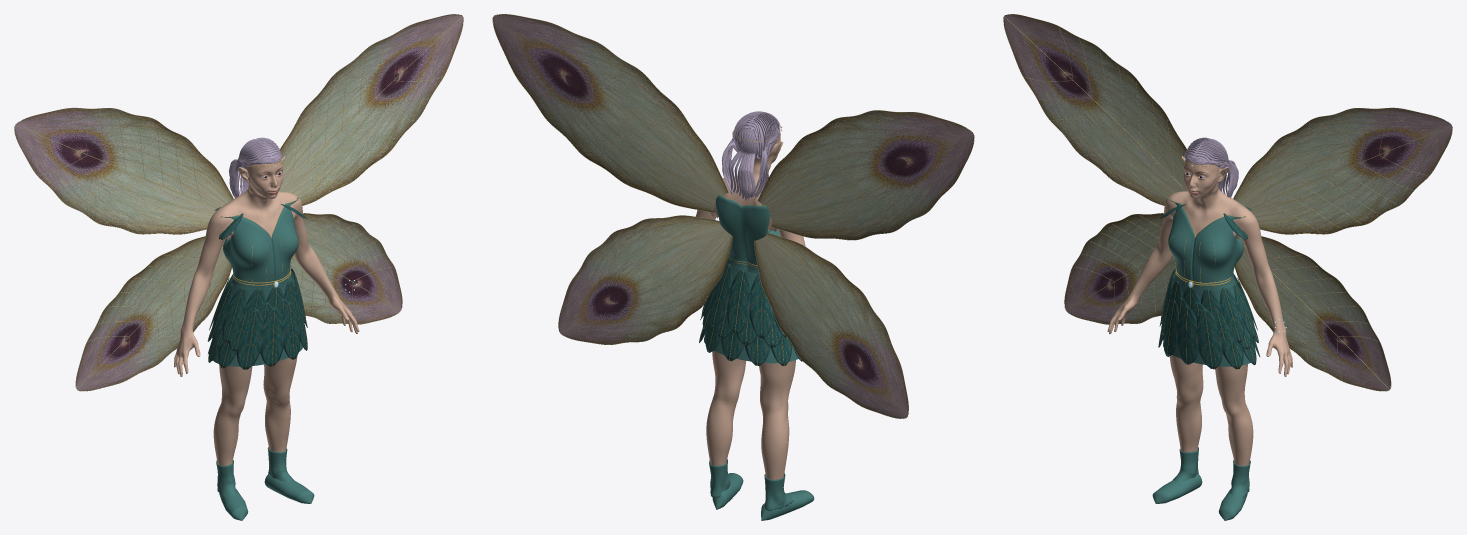
File: dream_wisp_geometry.glb
The picture shows the model from 3 angles, left to right: view 1: azimuth 30°, elevation 25°; view 2: azimuth 150°, elevation 25°; view 3: azimuth 330°, elevation 25°; orthographic projection. The views are drawn at different scales.
Parts seen in each view (by area): view 1: part_192, part_228, part_004, part_210, part_246, part_096, part_095, part_172, part_170, part_150, part_100, part_122 (+2 smaller); view 2: part_228, part_192, part_246, part_210, part_004, part_096, part_095, part_114, part_116, part_112, part_099, part_101; view 3: part_228, part_192, part_004, part_246, part_210, part_096, part_150, part_095, part_172, part_106, part_099, part_170 (+2 smaller).
Part boxes in pixels (x1,y1,x2,y2): part_192: (14, 108, 233, 234); part_228: (279, 14, 463, 205); part_004: (174, 156, 359, 465); part_210: (76, 236, 231, 390); part_246: (290, 213, 402, 324); part_096: (215, 197, 298, 289); part_095: (216, 447, 293, 497); part_172: (260, 307, 283, 366); part_170: (236, 309, 263, 369); part_150: (282, 302, 300, 359); part_100: (264, 474, 314, 503); part_122: (222, 287, 246, 342); part_228: (492, 14, 728, 212); part_192: (758, 110, 974, 239); part_246: (558, 215, 732, 344); part_210: (754, 233, 908, 418); part_004: (695, 130, 805, 479); part_096: (715, 194, 780, 273); part_095: (709, 459, 793, 510); part_114: (727, 269, 751, 334); part_116: (749, 274, 773, 338); part_112: (710, 264, 732, 326); part_099: (761, 490, 814, 520); part_101: (704, 263, 798, 363); part_228: (1233, 108, 1452, 234); part_192: (1003, 14, 1187, 205); part_004: (1107, 156, 1292, 465); part_246: (1235, 236, 1390, 390); part_210: (1064, 213, 1176, 324); part_096: (1168, 198, 1251, 289); part_150: (1196, 309, 1222, 369); part_095: (1172, 447, 1250, 497); part_172: (1177, 305, 1198, 364); part_106: (1220, 287, 1244, 342); part_099: (1152, 474, 1202, 503); part_170: (1163, 300, 1179, 356).
Size of what is drawn, in the model's own units: 1.05 by 0.9458 by 0.1553.
Materials: 12 (3 with a texture image).
